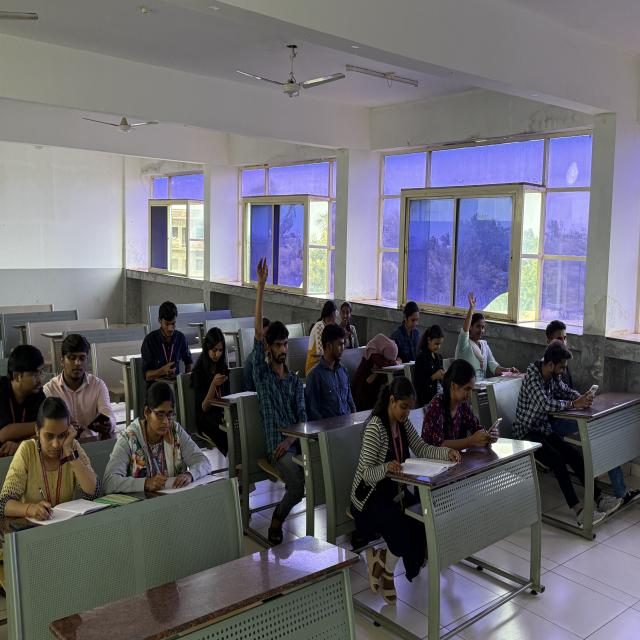Hand Rising: (252, 257, 306, 432), (456, 290, 494, 378)
Reading: (359, 375, 440, 489)
Sleeping: (360, 332, 402, 373)
Using Phone: (422, 358, 504, 453), (59, 328, 125, 432), (524, 339, 599, 415), (140, 299, 190, 379), (192, 323, 232, 411), (416, 323, 451, 391)
Writing: (105, 382, 220, 496), (6, 396, 103, 527)
